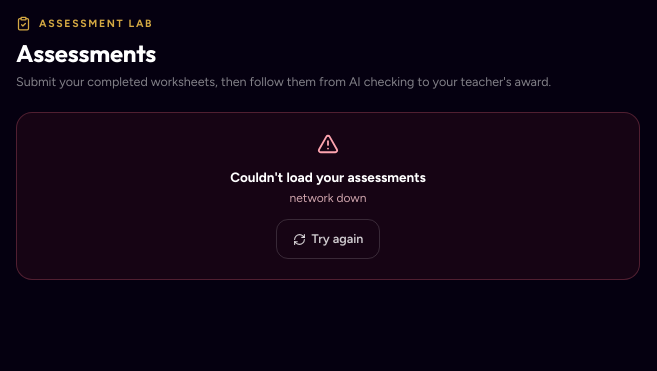
the error state offers a working retry
This screenshot has width=657, height=371.
Check: the element with test id "assessments-error" is shown, box [16,112,640,280]
Click the button with test id "assessments-retry-button". click: (328, 239)
box: [276,219,380,259]
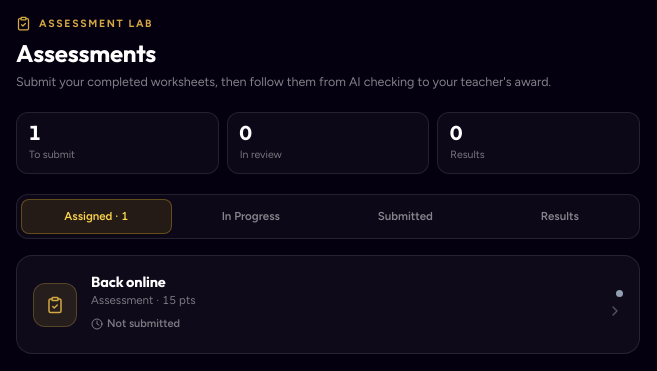
Check: the text "Back online" is shown, box [91,272,166,291]
